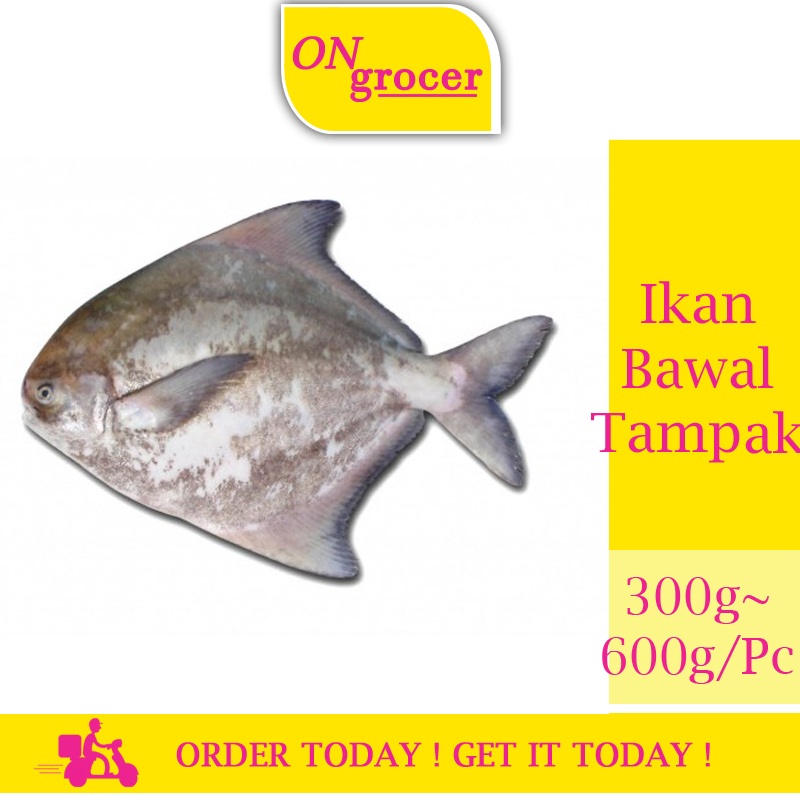Ikan Bawal: (8, 198, 573, 596)
